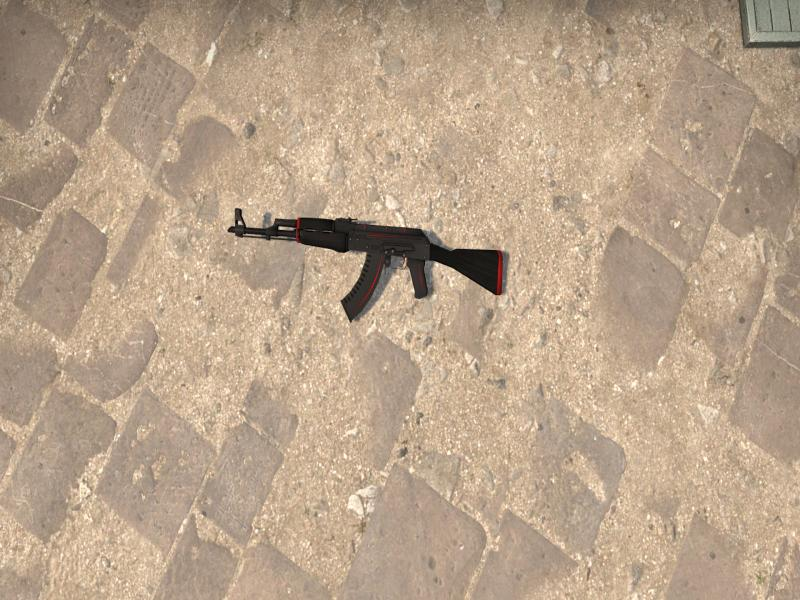AK47: (227, 208, 502, 320)
